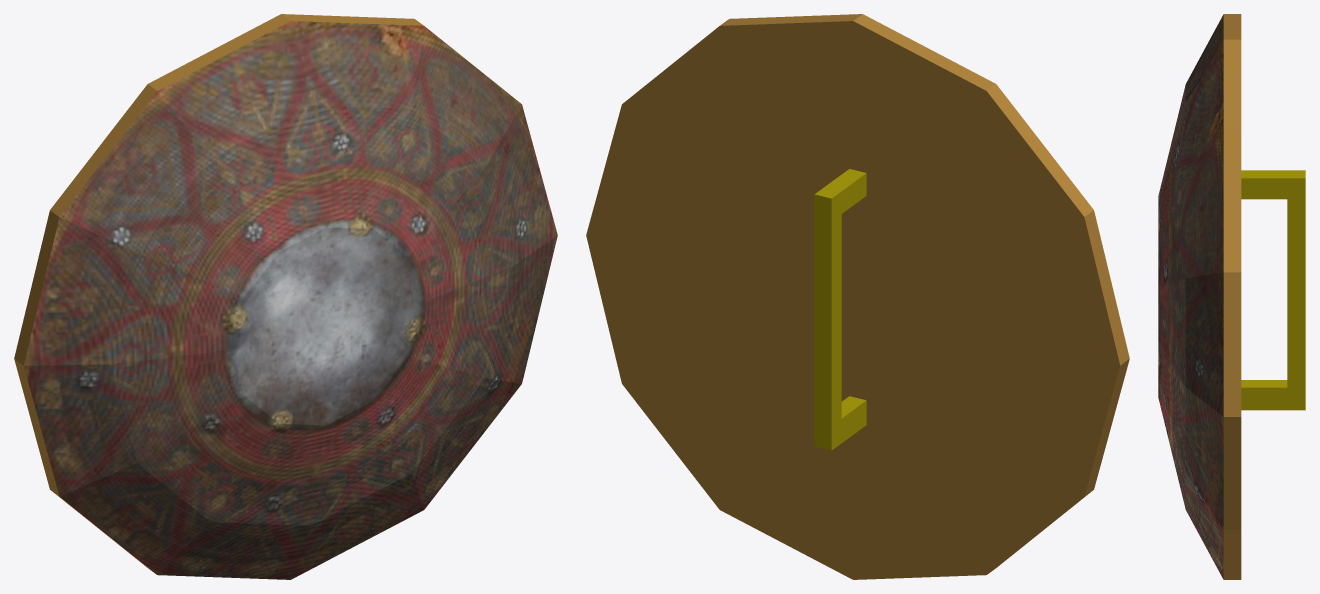
Rendered from khien mongolia.fbx.
3 renders of one model, left to right at view 1: azimuth 30°, elevation 25°; view 2: azimuth 150°, elevation 25°; view 3: azimuth 270°, elevation 25°, orthographic. The views are drawn at different scales.
Parts seen in each view (by area): view 1: khien_mong_co; view 2: khien_mong_co; view 3: khien_mong_co.
Boxes of the visible parts, x1,y1,x2,y2 form: khien_mong_co: (14,14,557,579); khien_mong_co: (586,14,1129,579); khien_mong_co: (1158,14,1305,579).
Size of the model in its own units: 3.26 by 3.26 by 0.8469.
3 materials, 1 textured.
